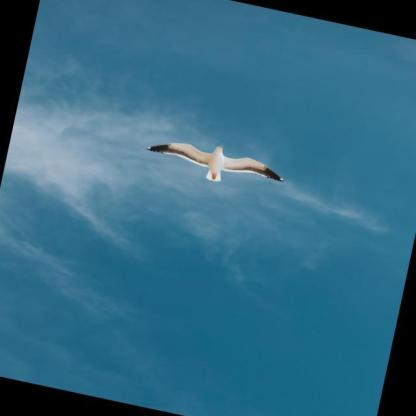bird: (141, 128, 291, 196)
